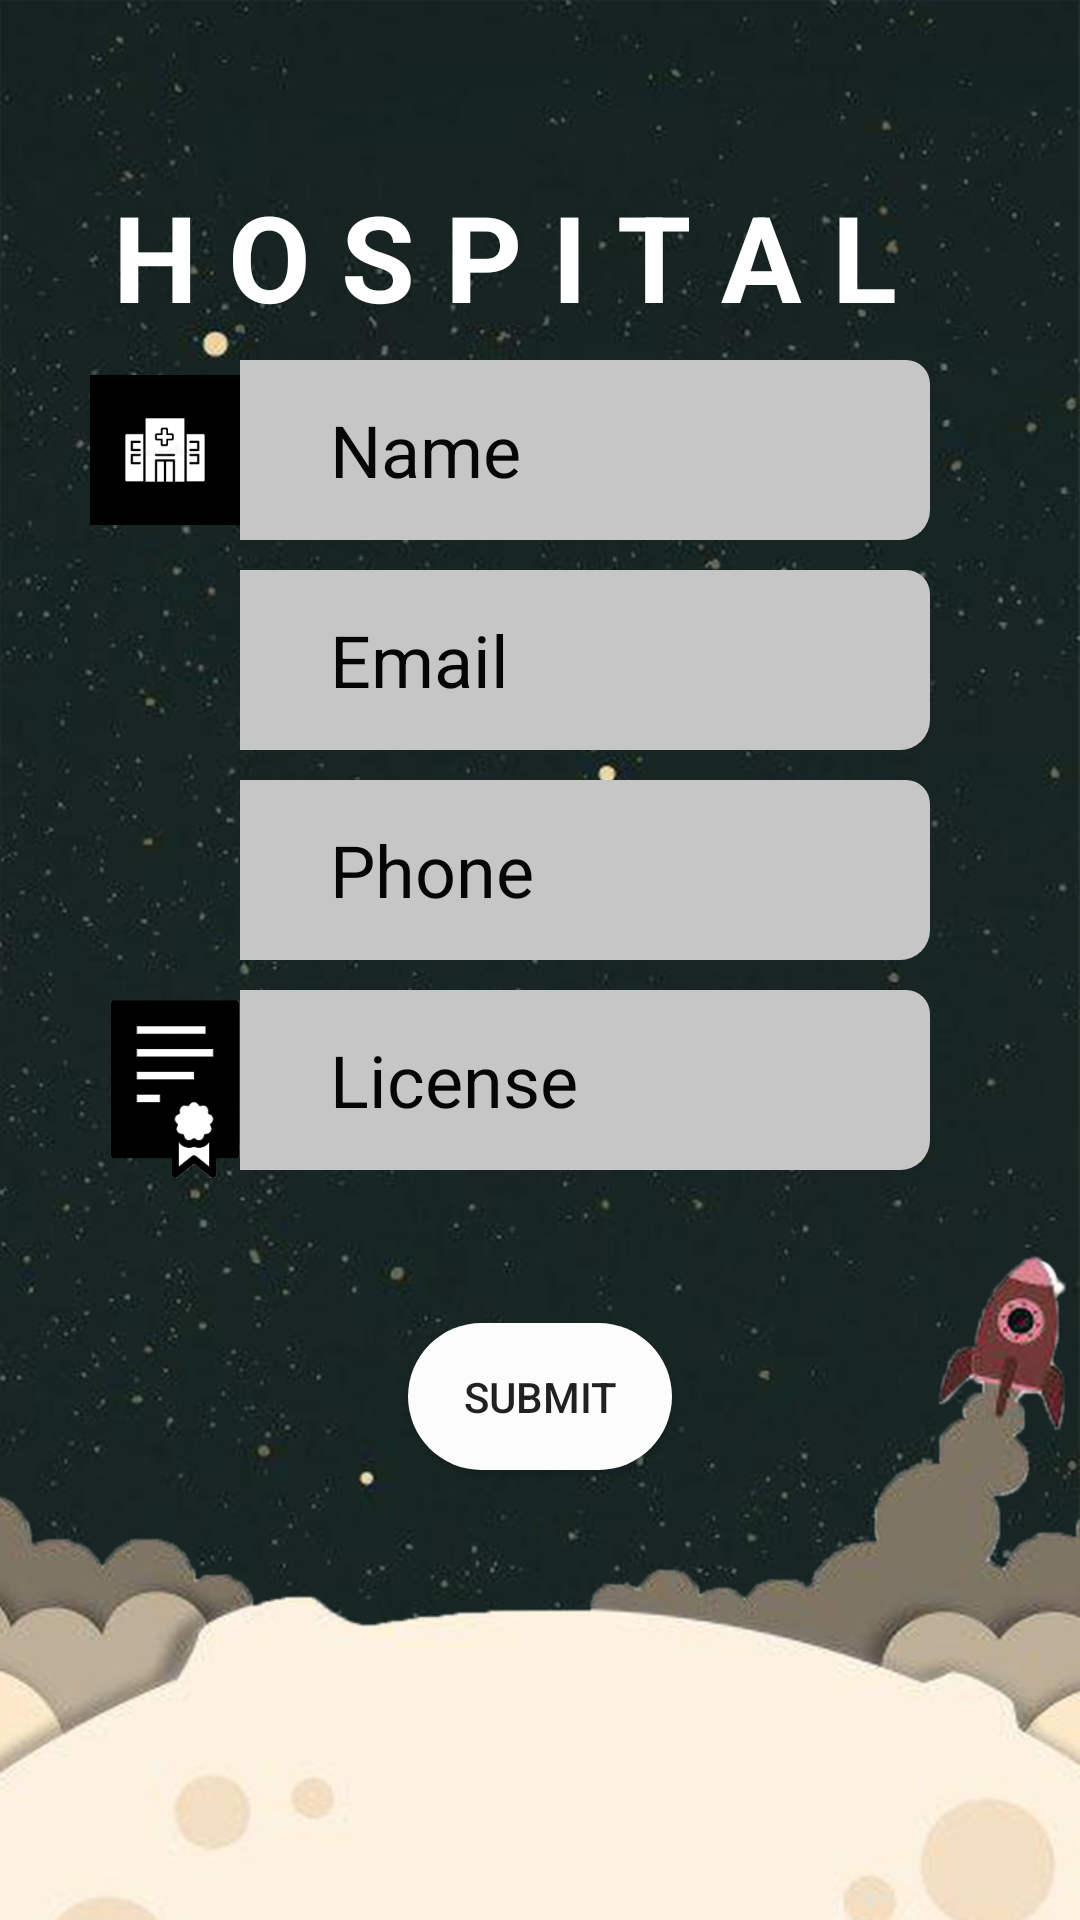

Icons on this 1080x1920 Android screen, each with the point to tap as [x,y]:
hospp: [165,452]
licences: [177,1085]
